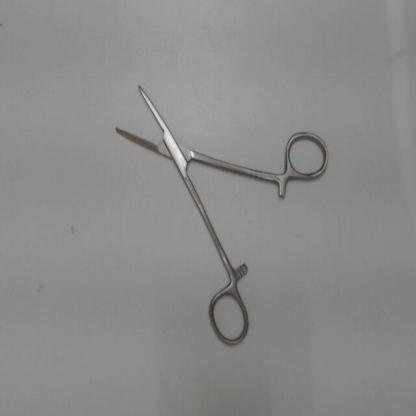Mayo Needle Holder: (106, 70, 333, 352)
